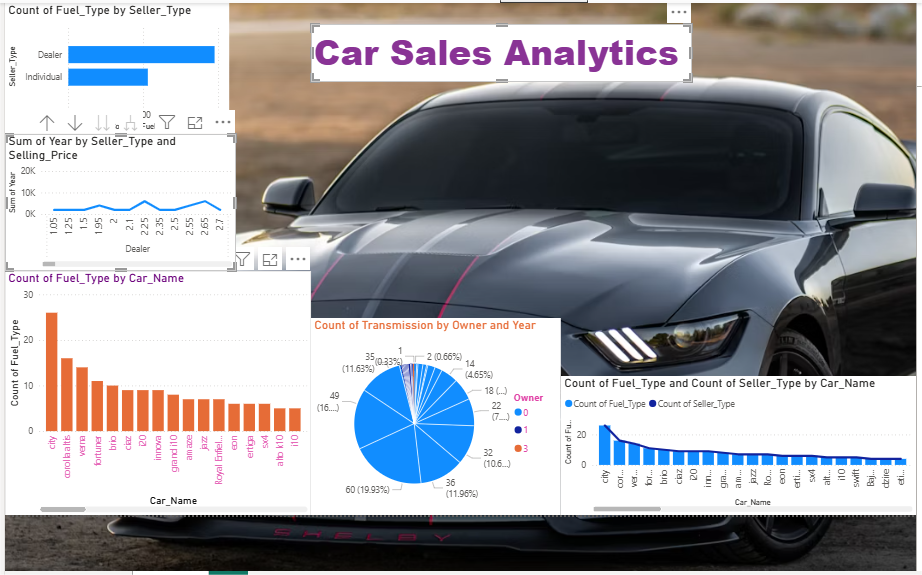

The page's visual inventory and layout, read from the dashboard file:
{"tool":"powerbi","page":{"name":"Page 1","canvas":[1280,720],"ordinal":0},"visuals":[{"type":"columnChart","fields":{"Category":["CAR_SALES new.Car_Name"],"Y":["CountNonNull(CAR_SALES new.Fuel_Type)"]},"box":[0,376.4,430,344],"z":0},{"type":"barChart","fields":{"Y":["CountNonNull(CAR_SALES new.Fuel_Type)"],"Category":["CAR_SALES new.Seller_Type"]},"box":[0,0,314.4,184.7],"z":1000},{"type":"lineChart","fields":{"Y":["Sum(CAR_SALES new.Year)"],"Category":["CAR_SALES new.Seller_Type","CAR_SALES new.Selling_Price"]},"box":[0,184.7,324.2,191.7],"z":2000},{"type":"lineClusteredColumnComboChart","fields":{"Category":["CAR_SALES new.Car_Name"],"Y":["CountNonNull(CAR_SALES new.Fuel_Type)"],"Y2":["CountNonNull(CAR_SALES new.Seller_Type)"]},"box":[781,524.4,499,195.9],"z":3000},{"type":"pieChart","fields":{"Category":["CAR_SALES new.Owner"],"Y":["CountNonNull(CAR_SALES new.Transmission)"],"Series":["CAR_SALES new.Year"]},"box":[430,442.6,351,277.7],"z":4000},{"type":"textbox","box":[429.9,29.5,535.3,81.5],"z":4001}]}

Visuals, with their boxes on the page's 1280x720 design canvas (x1, y1, x2, y2). These are canvas units, not pixel positions in the 922x575 screenshot, which may show the page scaled, cropped or inside an application window:
columnChart - CAR_SALES new.Car_Name x CountNonNull(CAR_SALES new.Fuel_Type): [x1=0, y1=376, x2=430, y2=720]
barChart - CountNonNull(CAR_SALES new.Fuel_Type) x CAR_SALES new.Seller_Type: [x1=0, y1=0, x2=314, y2=185]
lineChart - Sum(CAR_SALES new.Year) x CAR_SALES new.Seller_Type: [x1=0, y1=185, x2=324, y2=376]
lineClusteredColumnComboChart - CAR_SALES new.Car_Name x CountNonNull(CAR_SALES new.Fuel_Type): [x1=781, y1=524, x2=1280, y2=720]
pieChart - CAR_SALES new.Owner x CountNonNull(CAR_SALES new.Transmission): [x1=430, y1=443, x2=781, y2=720]
textbox: [x1=430, y1=30, x2=965, y2=111]
